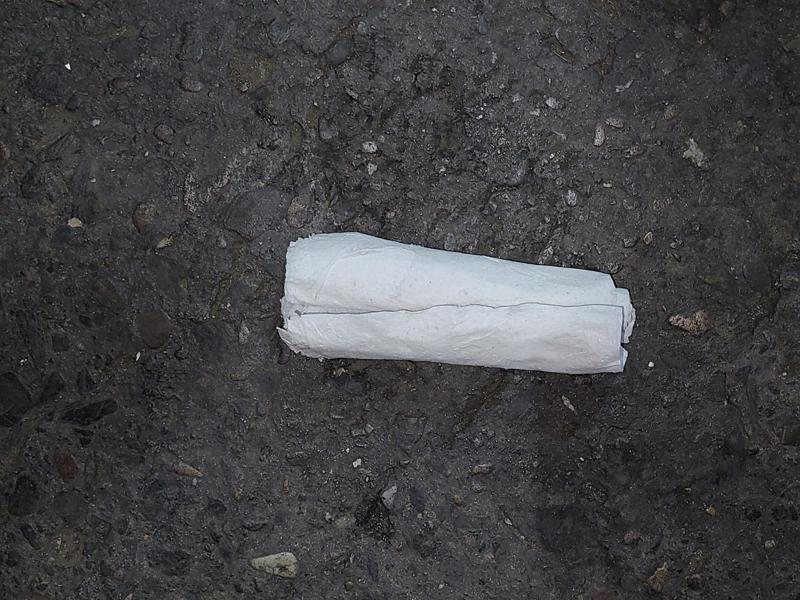papel: (277, 233, 636, 377)
